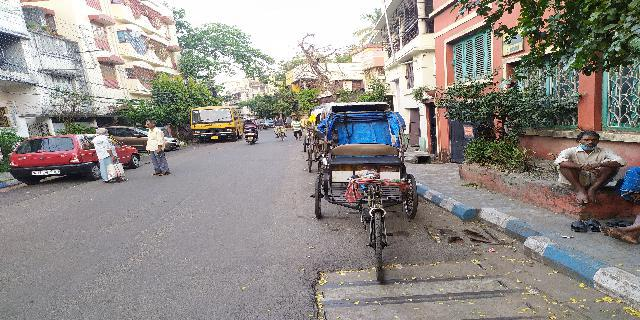Bus: (188, 103, 248, 145)
Motorbike: (243, 111, 260, 150)
Rickshaw: (302, 98, 426, 289), (8, 132, 142, 182)
